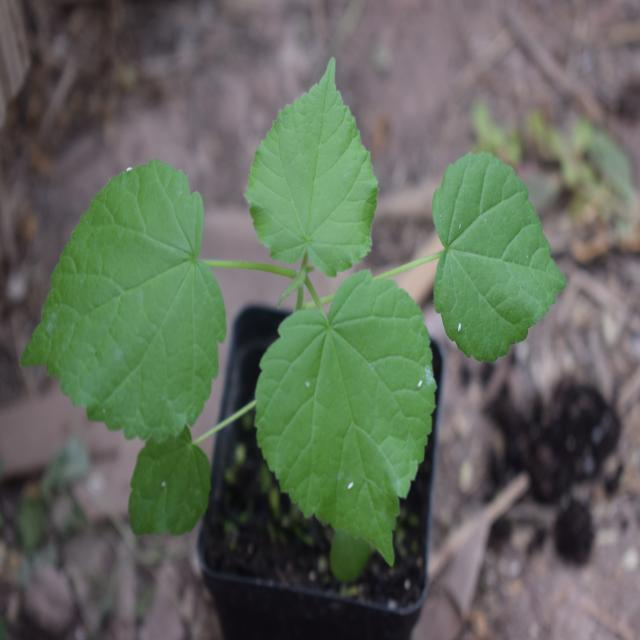abutilon theophrasti: (70, 76, 565, 556)
